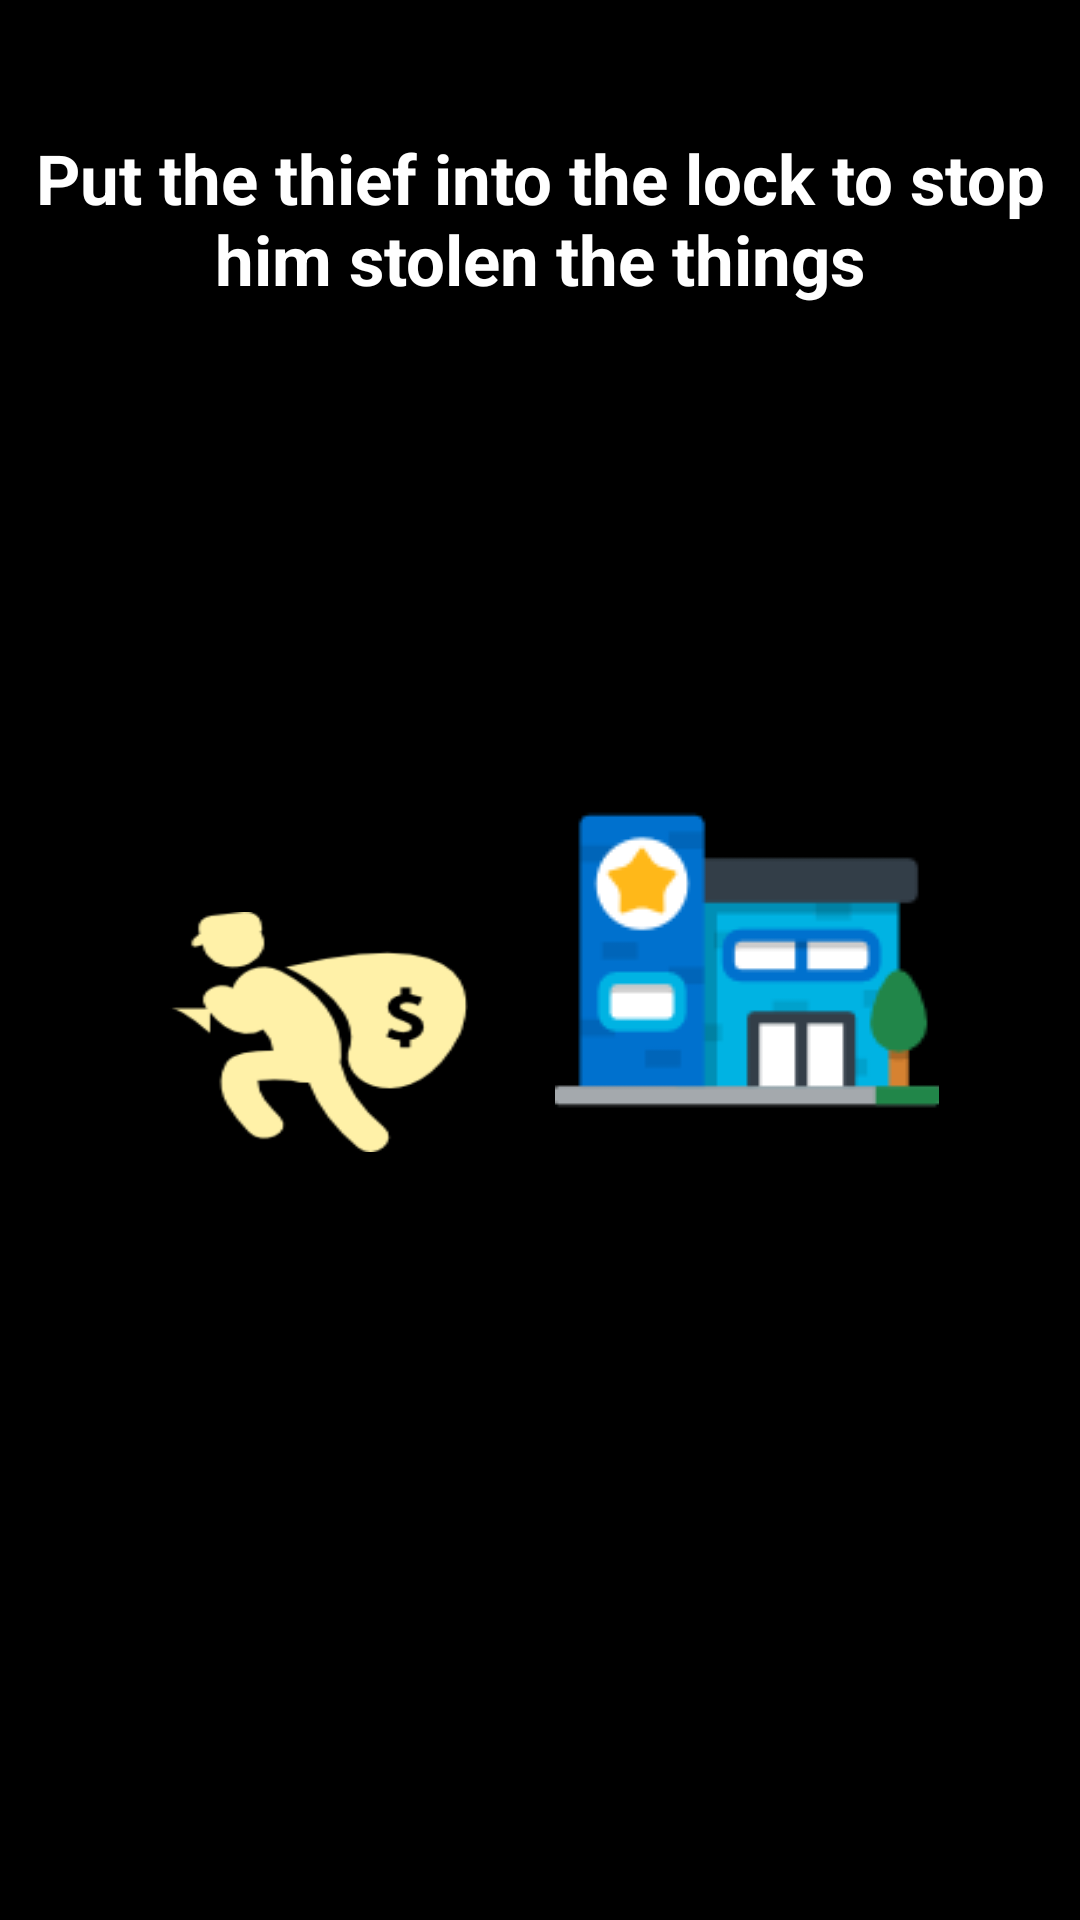

Named icons in this screenshot (1080×1920) and their centers, (x=x, y=y):
thief: (x=320, y=1032)
